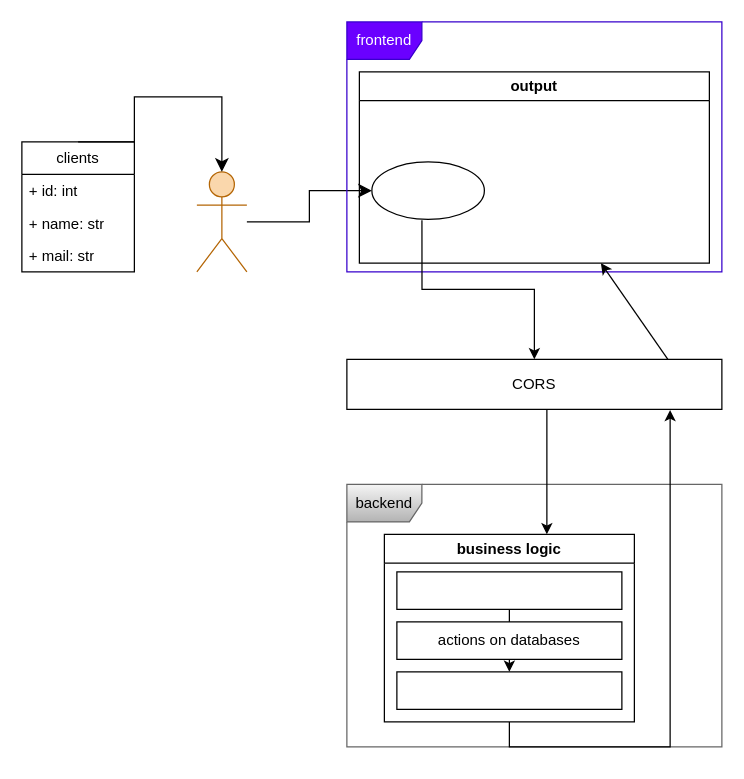
The diagram is 744 pixels wide and 779 high, and some of its shapes have lost their labels. The centre of each missing label's shape, as x and y in pixels:
"action" belongs at (x=427, y=190).
"client" belongs at (x=221, y=221).
"performing functions" belongs at (x=509, y=590).
"processing of results" belongs at (x=509, y=690).
